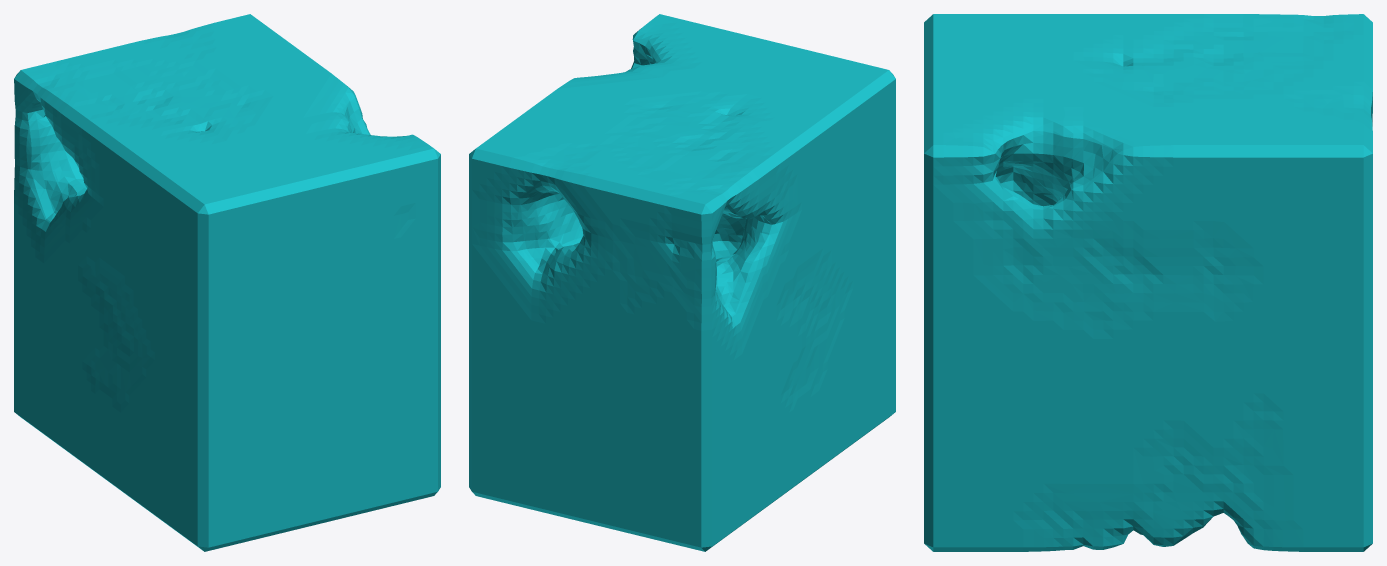
3 views of the same model, side by side, from view 1: azimuth 30°, elevation 25°; view 2: azimuth 150°, elevation 25°; view 3: azimuth 270°, elevation 25° (orthographic). The views are drawn at different scales.
Visible parts, largest first — view 1: Liquid_Domain; view 2: Liquid_Domain; view 3: Liquid_Domain.
Part boxes in pixels (x1=…): Liquid_Domain: x1=14, y1=14, x2=440, y2=551; Liquid_Domain: x1=469, y1=14, x2=895, y2=551; Liquid_Domain: x1=924, y1=14, x2=1372, y2=551.
Bounding box in the file's own units: 79.09 × 108 × 108.
